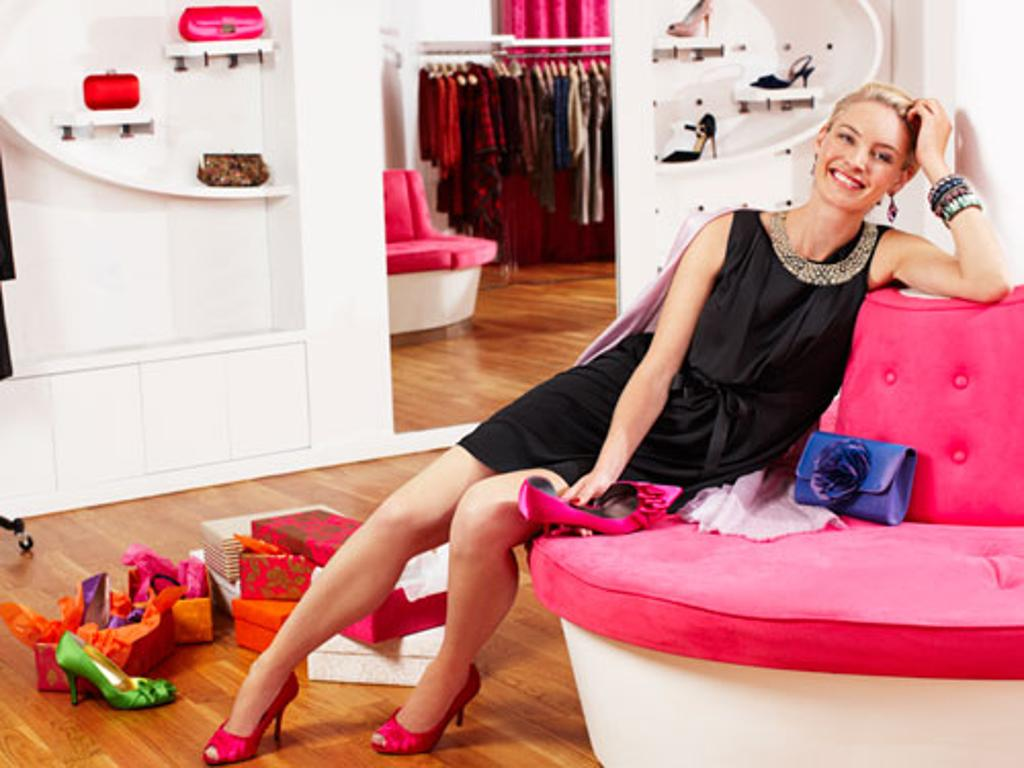face: (818, 108, 904, 210)
